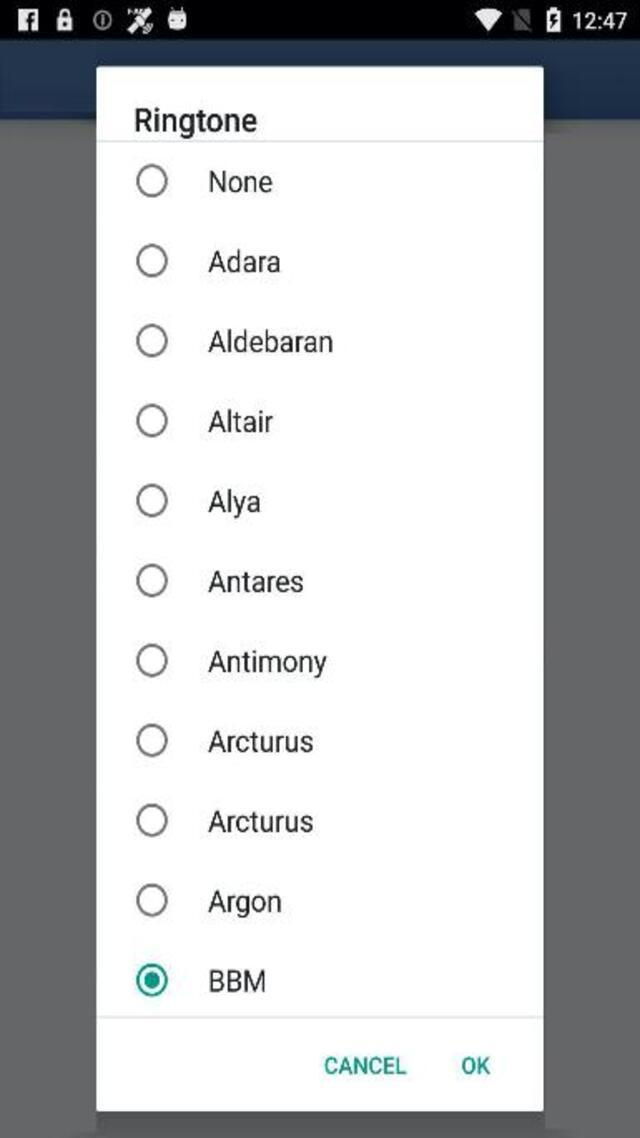CheckedTextView: (136, 644, 327, 680), (136, 322, 332, 356), (136, 722, 312, 756), (136, 802, 312, 836), (136, 562, 302, 596), (135, 882, 281, 918), (136, 244, 280, 278), (136, 404, 274, 438), (136, 164, 272, 198), (136, 484, 260, 520), (136, 962, 266, 996)
Text: (136, 106, 256, 138), (208, 649, 328, 677), (207, 329, 332, 354), (208, 808, 314, 831), (207, 730, 312, 753), (208, 570, 304, 593), (208, 890, 281, 918), (208, 250, 281, 273), (208, 488, 261, 518), (208, 410, 274, 433), (325, 1056, 406, 1074), (210, 170, 272, 193), (210, 968, 265, 991), (462, 1055, 489, 1075)
